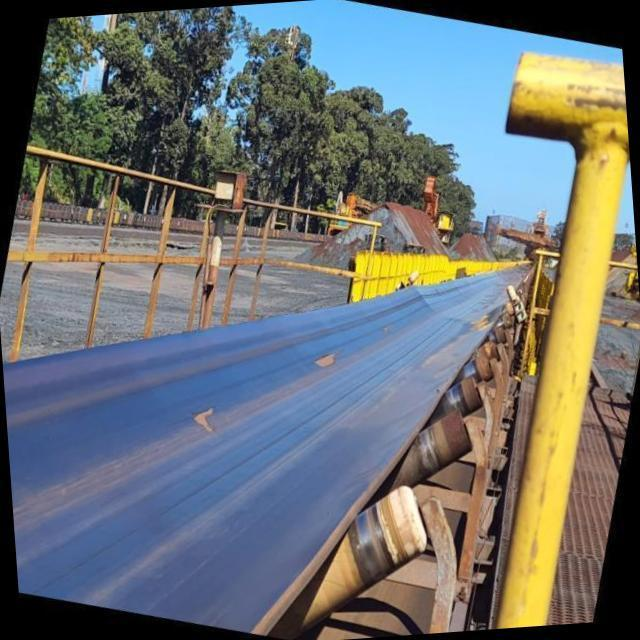Tear: (185, 403, 224, 442), (308, 348, 344, 376)
